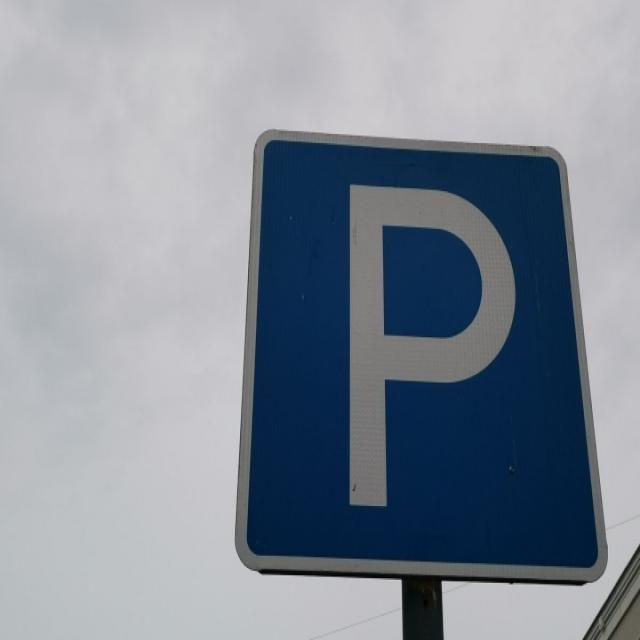parking: (239, 114, 612, 597)
